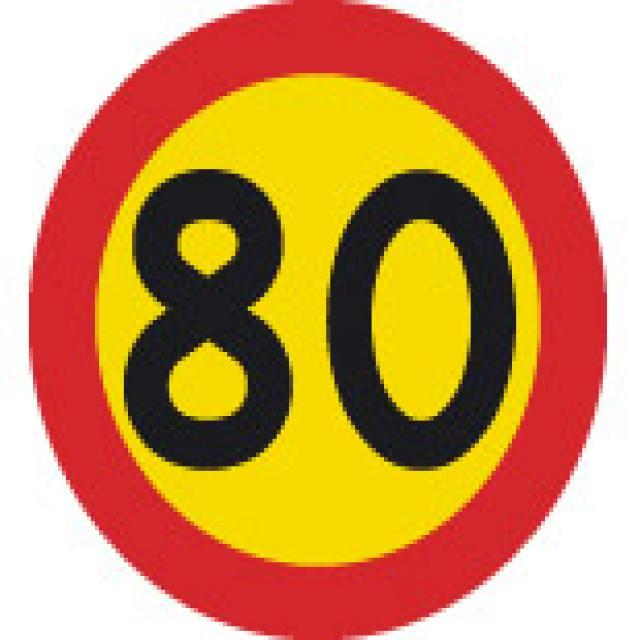55: (24, 0, 612, 640)
speed limit-80: (20, 4, 619, 640)
